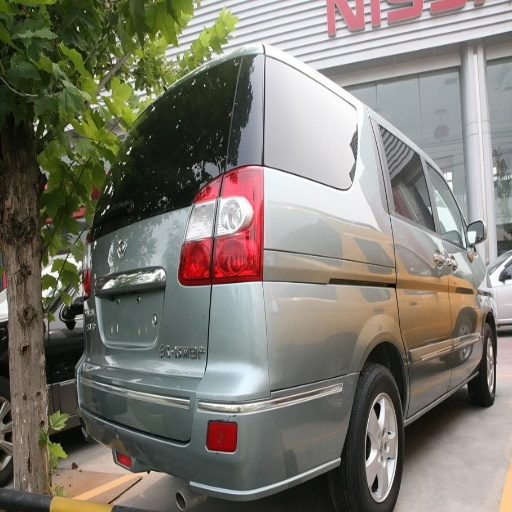back_bumper: (70, 281, 354, 500)
back_left_door: (265, 54, 327, 115)
back_right_door: (369, 107, 447, 396)
tailgate: (85, 205, 201, 362)
trunk: (118, 168, 260, 353), (275, 214, 402, 395)
